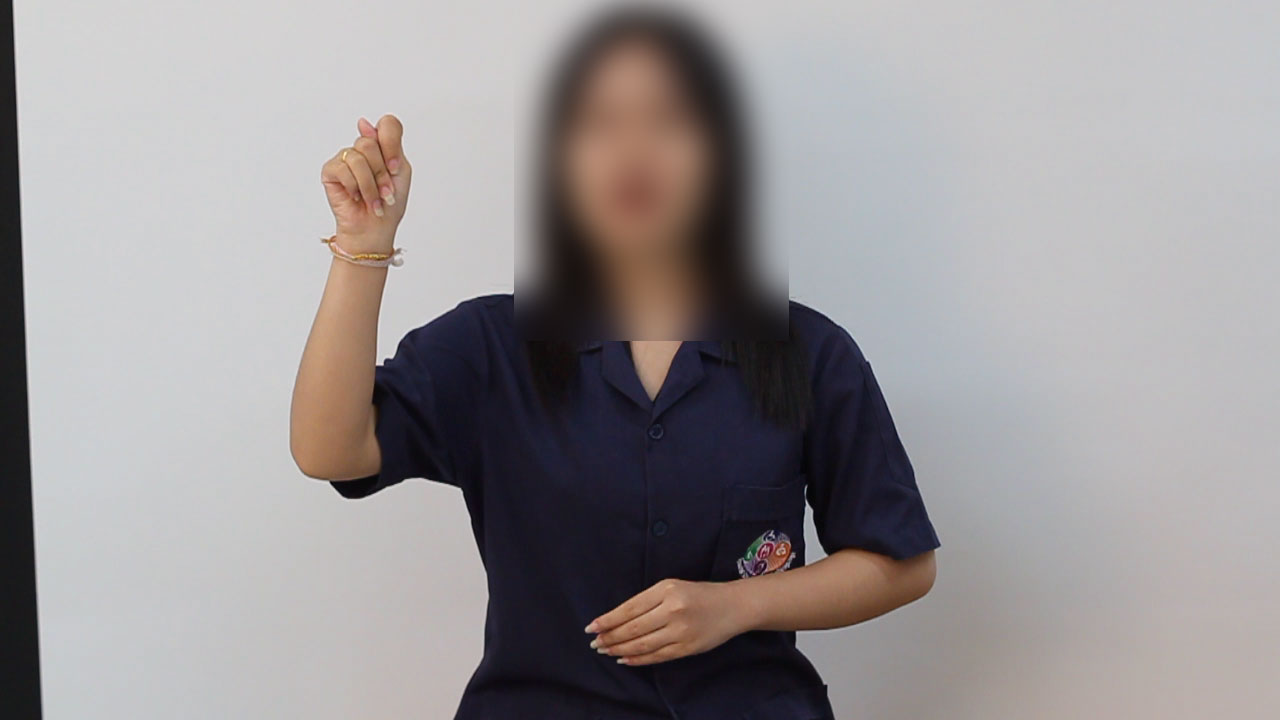tor: (307, 101, 436, 247)
